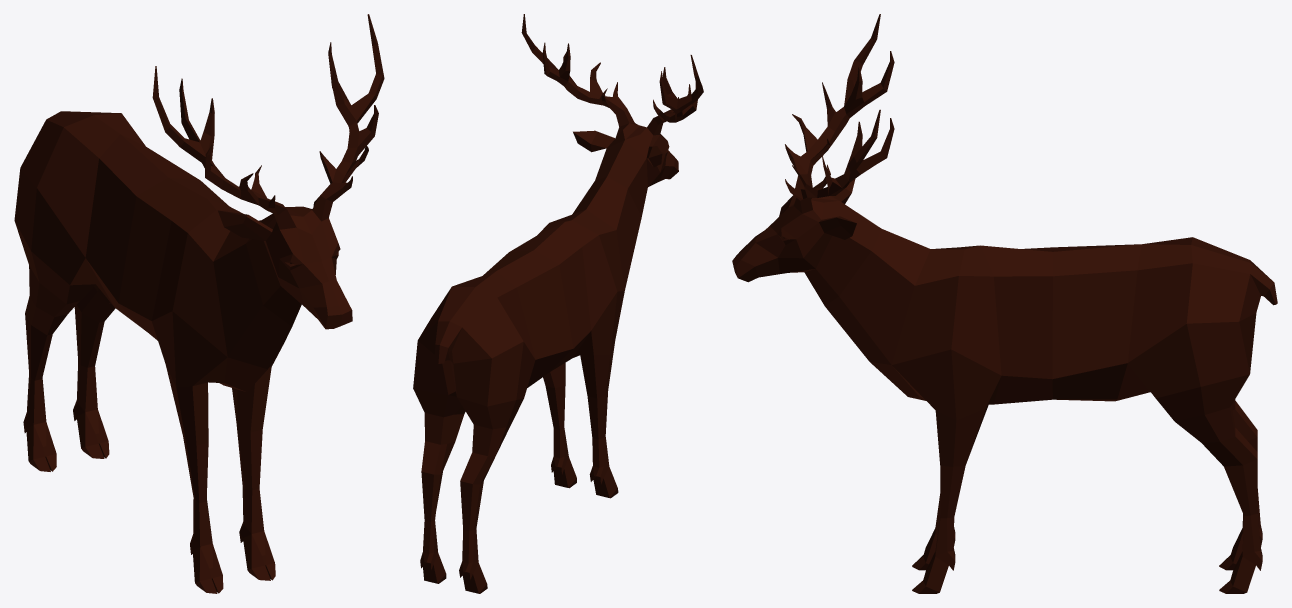
The model's file is deer.obj.
3 views of the same model, side by side, from view 1: azimuth 30°, elevation 25°; view 2: azimuth 150°, elevation 25°; view 3: azimuth 270°, elevation 25° (orthographic). The views are drawn at different scales.
Visible parts, largest first — view 1: ORIGAMI_Cerf; view 2: ORIGAMI_Cerf; view 3: ORIGAMI_Cerf.
Boxes of the visible parts, bbox=[...] form: ORIGAMI_Cerf: bbox=[14, 14, 384, 593]; ORIGAMI_Cerf: bbox=[413, 14, 703, 593]; ORIGAMI_Cerf: bbox=[732, 14, 1277, 593].
Size of the model in its own units: 3.18 by 7.54 by 7.22.
